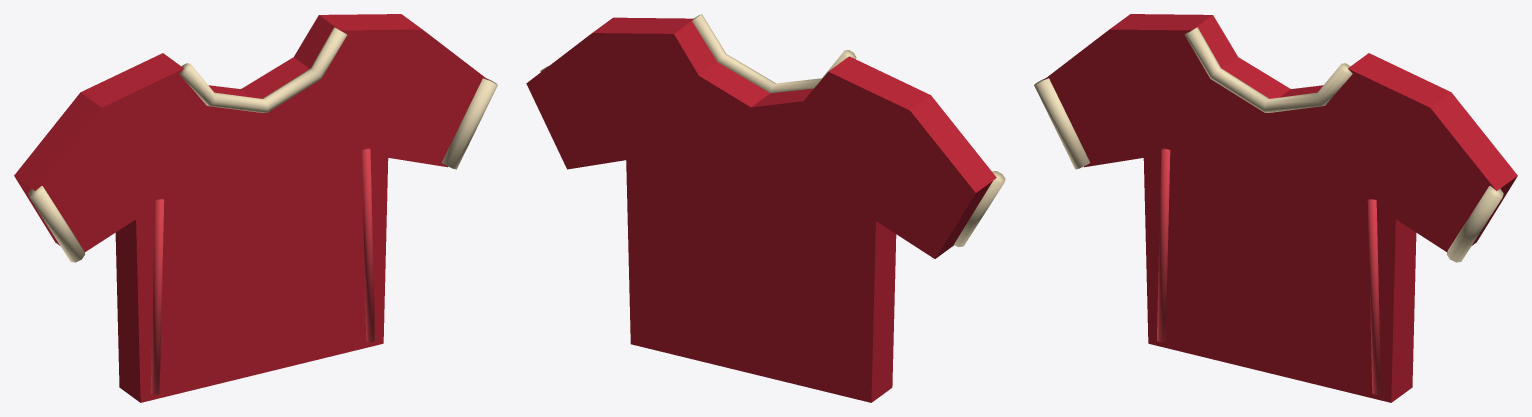
The model's file is shirt.glb.
3 views of the same model, side by side, from view 1: azimuth 30°, elevation 25°; view 2: azimuth 150°, elevation 25°; view 3: azimuth 330°, elevation 25° (orthographic).
Visible parts, largest first — view 1: shirt · Kop scarlet velvet, shirt · Warm ivory, shirt · Scarlet piping; view 2: shirt · Kop scarlet velvet, shirt · Warm ivory; view 3: shirt · Kop scarlet velvet, shirt · Warm ivory, shirt · Scarlet piping.
Boxes of the visible parts, x1=… form: shirt · Kop scarlet velvet: x1=14, y1=14, x2=487, y2=402; shirt · Warm ivory: x1=28, y1=27, x2=497, y2=262; shirt · Scarlet piping: x1=150, y1=148, x2=374, y2=394; shirt · Kop scarlet velvet: x1=526, y1=17, x2=996, y2=402; shirt · Warm ivory: x1=540, y1=14, x2=1005, y2=247; shirt · Kop scarlet velvet: x1=1044, y1=14, x2=1517, y2=402; shirt · Warm ivory: x1=1034, y1=27, x2=1503, y2=262; shirt · Scarlet piping: x1=1157, y1=148, x2=1381, y2=394.
Bounding box in the file's own units: 2.04 × 1.37 × 0.205.
